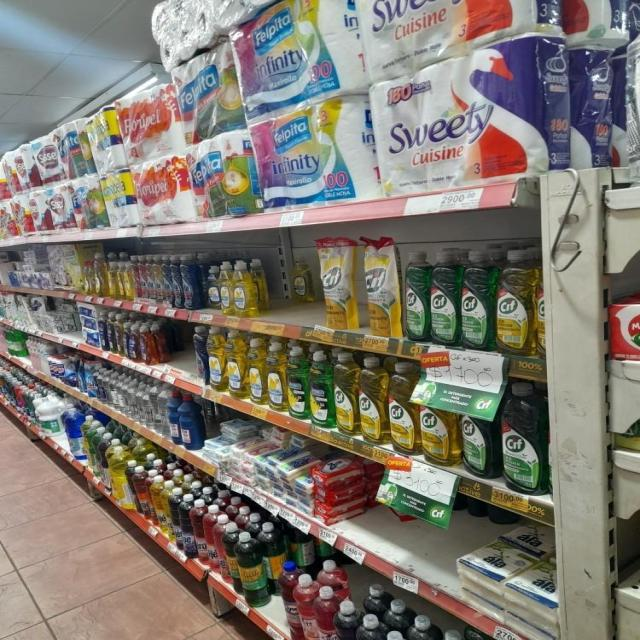cif_conc_bot_amarilla: (496, 247, 536, 356), (421, 378, 458, 466), (388, 361, 418, 454), (358, 356, 386, 444), (335, 352, 357, 436)
cif_conc_botella_verde: (502, 382, 546, 494), (461, 380, 498, 478), (460, 248, 494, 350), (429, 248, 458, 347), (403, 249, 428, 343)
cif_conc_sachet_amarillo: (362, 237, 400, 338), (321, 237, 356, 331)
magistral_con_amarillo: (267, 341, 286, 412), (227, 329, 246, 399), (248, 336, 266, 406), (208, 325, 225, 392), (206, 261, 220, 311), (220, 260, 232, 315)
